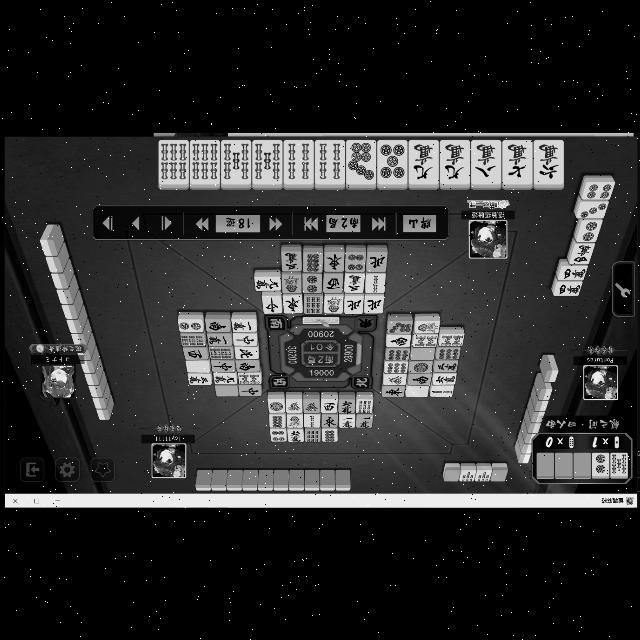1m: (351, 412, 375, 432), (232, 316, 258, 334), (206, 332, 228, 348), (338, 413, 354, 433)
1p: (408, 362, 434, 374), (267, 396, 281, 412)
1s: (280, 272, 300, 296), (322, 296, 343, 318), (414, 318, 440, 334), (284, 411, 306, 429)
2p: (590, 448, 610, 480), (576, 218, 602, 240), (301, 272, 319, 296), (176, 314, 200, 332)
2s: (430, 383, 456, 402), (366, 274, 386, 294), (304, 414, 322, 432)
3m: (280, 245, 298, 272), (432, 360, 461, 376), (184, 371, 212, 387), (344, 271, 362, 295)
3p: (570, 198, 608, 222)
4m: (549, 278, 587, 302), (567, 244, 595, 268), (556, 263, 590, 281)
4p: (580, 170, 616, 204), (346, 250, 366, 276), (266, 428, 288, 448)
4s: (284, 136, 316, 186), (316, 142, 342, 184)
5p: (376, 137, 406, 187)
5s: (222, 140, 252, 187), (254, 134, 278, 188), (608, 447, 630, 481)
6m: (533, 140, 565, 188), (429, 372, 458, 388), (284, 427, 306, 447), (337, 395, 353, 413)
6s: (154, 137, 190, 187), (192, 138, 220, 188), (208, 346, 232, 364)
7m: (504, 139, 530, 185)
7p: (344, 140, 378, 184), (386, 318, 412, 334)
7s: (459, 456, 475, 489), (476, 462, 490, 486)
8m: (469, 138, 505, 190)
8p: (302, 245, 322, 272), (320, 429, 338, 445), (266, 416, 286, 428)
8s: (409, 332, 438, 350), (436, 332, 466, 348), (237, 372, 261, 386)
9m: (437, 136, 471, 187), (406, 140, 438, 188), (250, 272, 280, 290), (211, 372, 237, 388)
9p: (380, 359, 410, 376), (381, 346, 412, 362), (436, 347, 462, 361)
9s: (178, 332, 206, 350), (301, 294, 321, 318), (354, 393, 371, 413), (304, 430, 320, 446)
chun: (260, 294, 278, 316), (238, 383, 260, 399), (212, 358, 232, 372), (232, 336, 255, 344)
haku: (179, 359, 213, 377), (210, 384, 238, 401), (408, 348, 436, 360), (406, 385, 428, 399)
hatsu: (380, 374, 410, 388), (302, 392, 321, 414), (284, 392, 302, 413)
nan: (204, 317, 228, 333), (407, 373, 431, 387), (234, 358, 256, 372), (386, 335, 410, 345)
pe: (362, 292, 386, 316), (366, 248, 386, 272), (341, 296, 363, 316), (235, 346, 259, 358)
sha: (322, 272, 344, 294), (181, 344, 203, 362), (319, 394, 337, 414)
tou: (324, 249, 344, 273), (284, 295, 298, 315), (379, 387, 406, 397), (320, 414, 338, 428)
